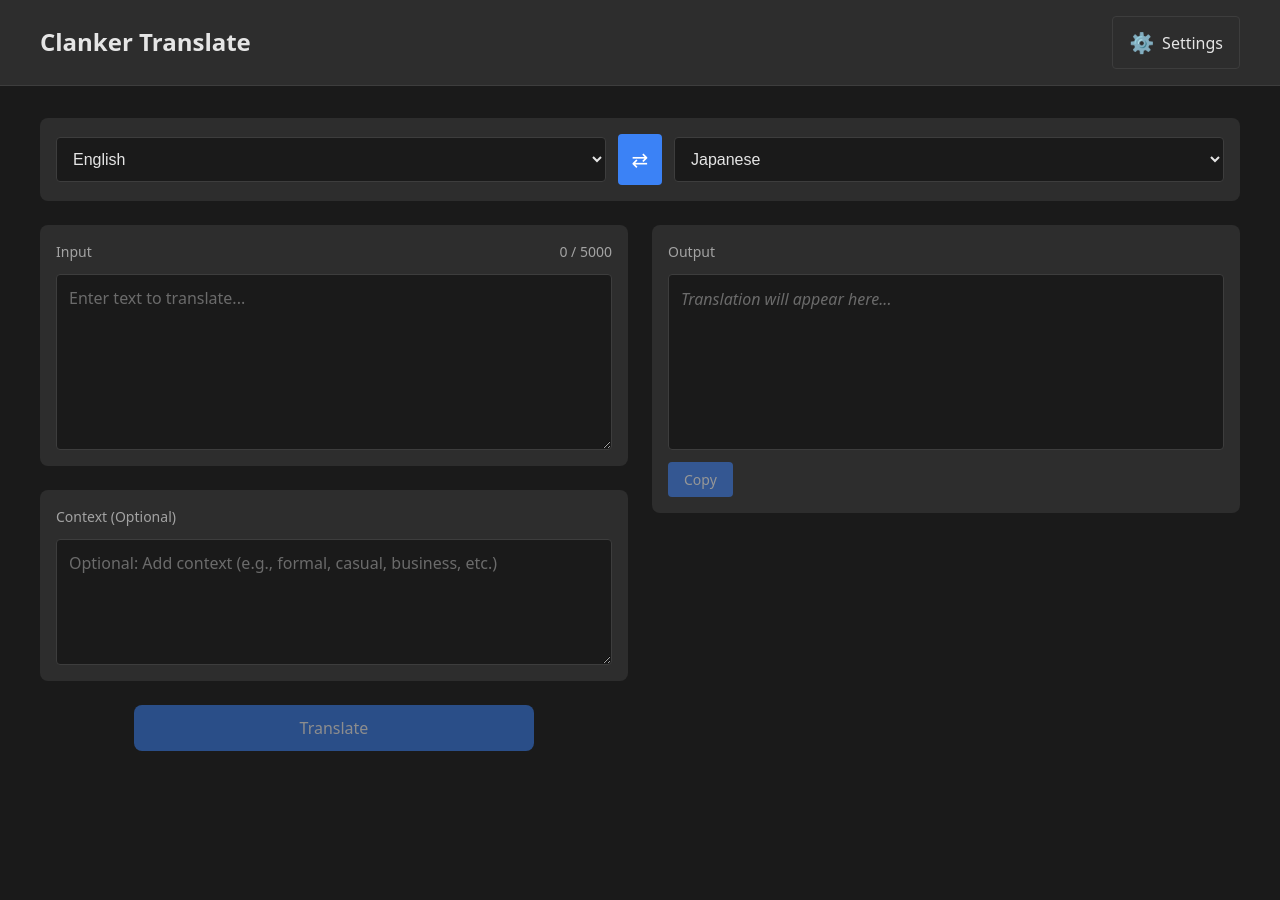
Test case: TranslationInterface › Translation Flow › should display successful translation
This screenshot has width=1280, height=900.
Note: Enter text
Type "Hello world" into the text box named "input text".
click(334, 362); type("Hello world")  # box [56, 274, 612, 450]
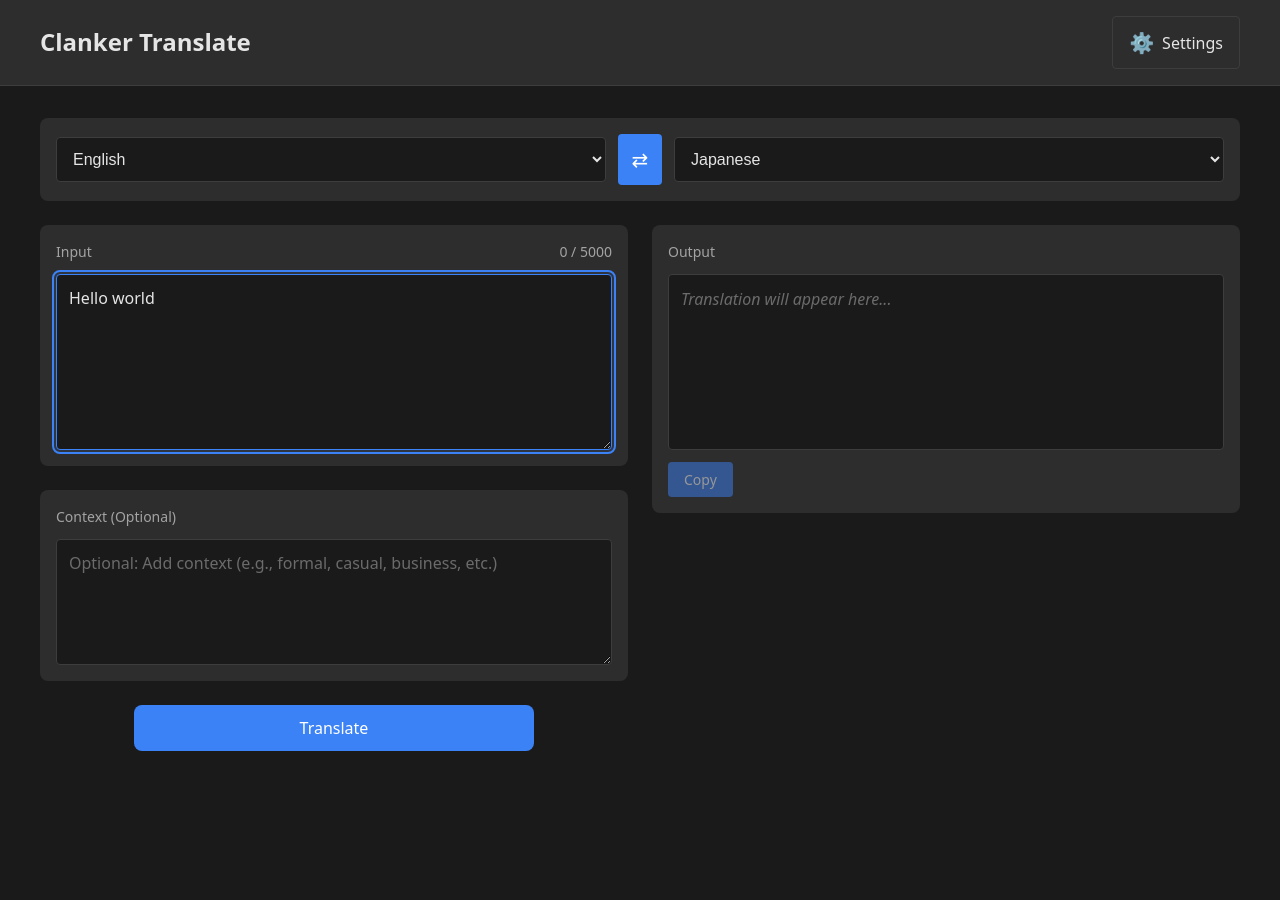
Note: Click translate
Click the button with aria-label "translate text".
click(334, 728)  # box [134, 705, 534, 751]
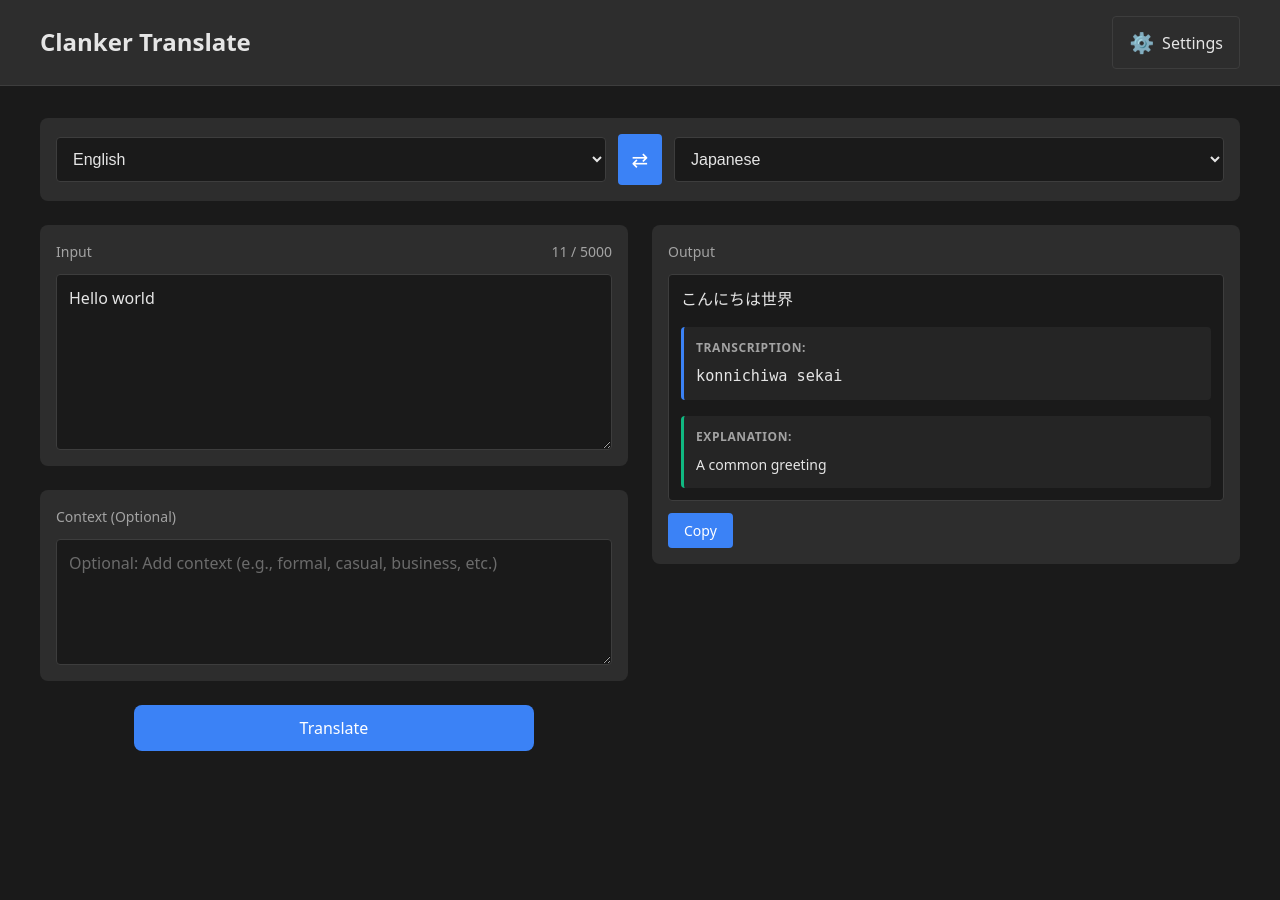
Check: the text "こんにちは世界" is shown, box [681, 288, 793, 310]
Check: the text "A common greeting" is shown, box [696, 455, 827, 474]
Check: the text "konnichiwa sekai" is shown, box [696, 367, 842, 385]
